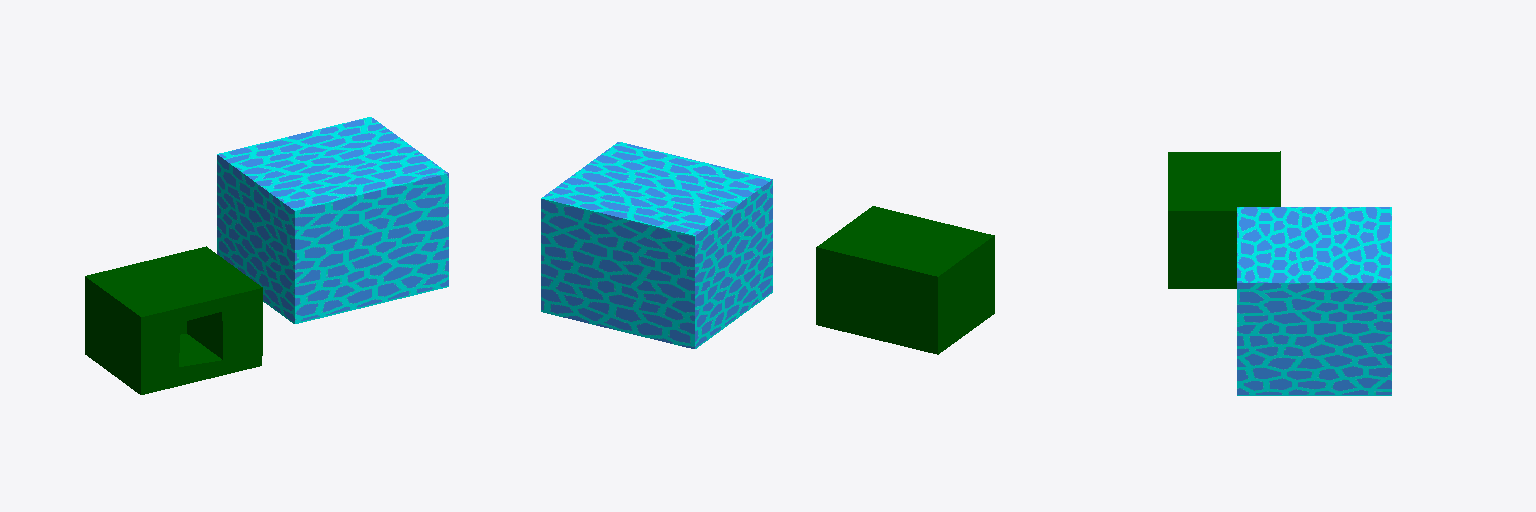
3 renders of one model, left to right at view 1: azimuth 30°, elevation 25°; view 2: azimuth 150°, elevation 25°; view 3: azimuth 270°, elevation 25°, orthographic.
Visible parts, largest first — view 1: pCube1, pCube2; view 2: pCube1, pCube2; view 3: pCube1, pCube2.
Part boxes in pixels (left/top/right/bottom): pCube1: left=217, top=117, right=448, bottom=323; pCube2: left=85, top=246, right=262, bottom=394; pCube1: left=541, top=142, right=772, bottom=348; pCube2: left=816, top=206, right=994, bottom=354; pCube1: left=1237, top=207, right=1391, bottom=395; pCube2: left=1168, top=151, right=1280, bottom=288.
Bounding box in the file's own units: 13.49 × 4.28 × 7.64.
2 materials, 1 textured.